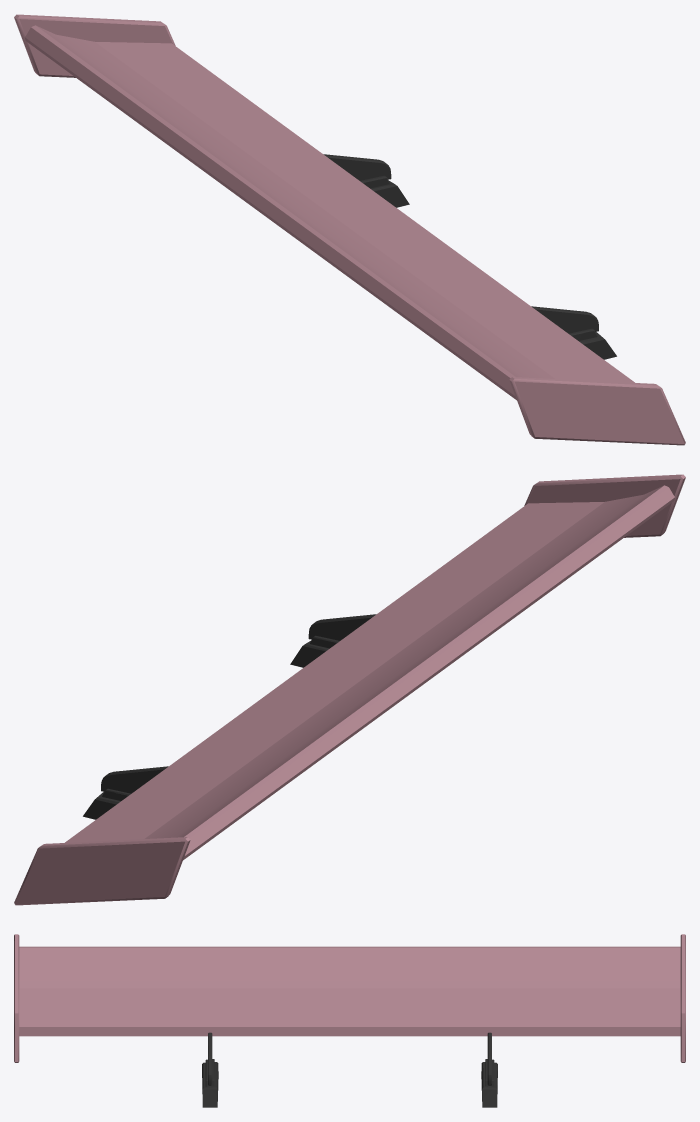
The picture shows the model from 3 angles, top to bottom: view 1: azimuth 30°, elevation 25°; view 2: azimuth 150°, elevation 25°; view 3: azimuth 270°, elevation 25°; orthographic projection. The views are drawn at different scales.
Visible parts, largest first — view 1: sp5; view 2: sp5; view 3: sp5.
Part boxes in pixels (x1,y1,x2,y2): sp5: [14, 14, 685, 445]; sp5: [14, 474, 685, 905]; sp5: [14, 934, 685, 1107].
Bounding box in the file's own units: 0.4402 × 0.2383 × 1.55.
